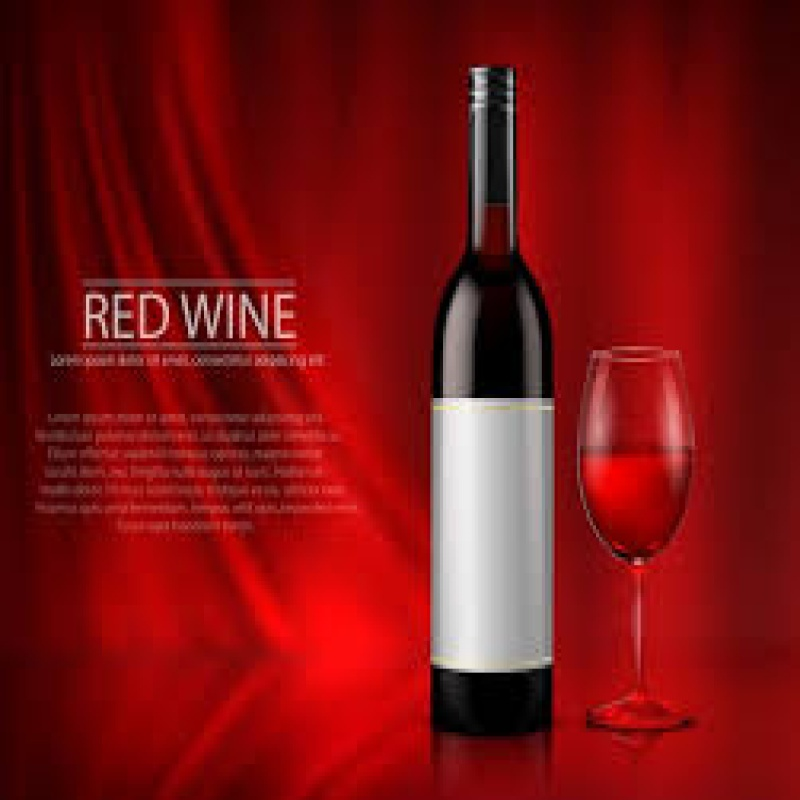wine: (432, 71, 555, 738)
